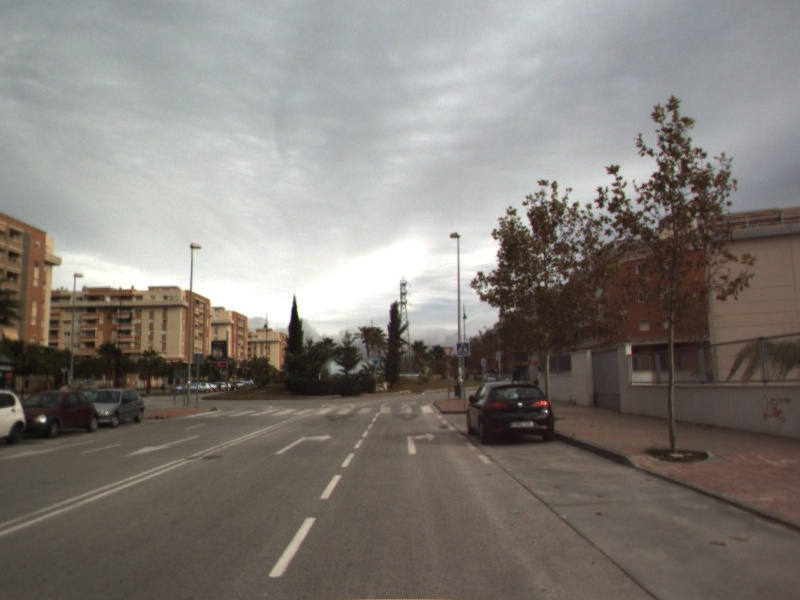RIGHT: (273, 430, 338, 457), (404, 430, 438, 456)
